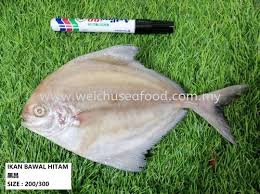Ikan Bawal: (16, 47, 249, 168)
